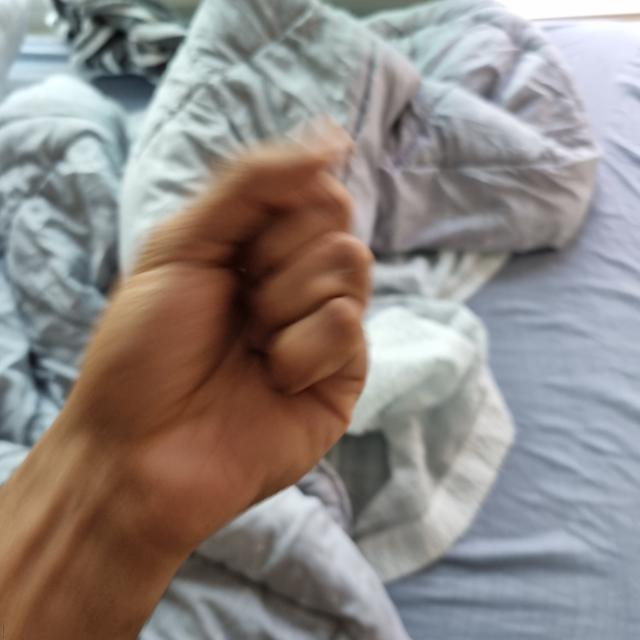Rock: (57, 141, 372, 560)
